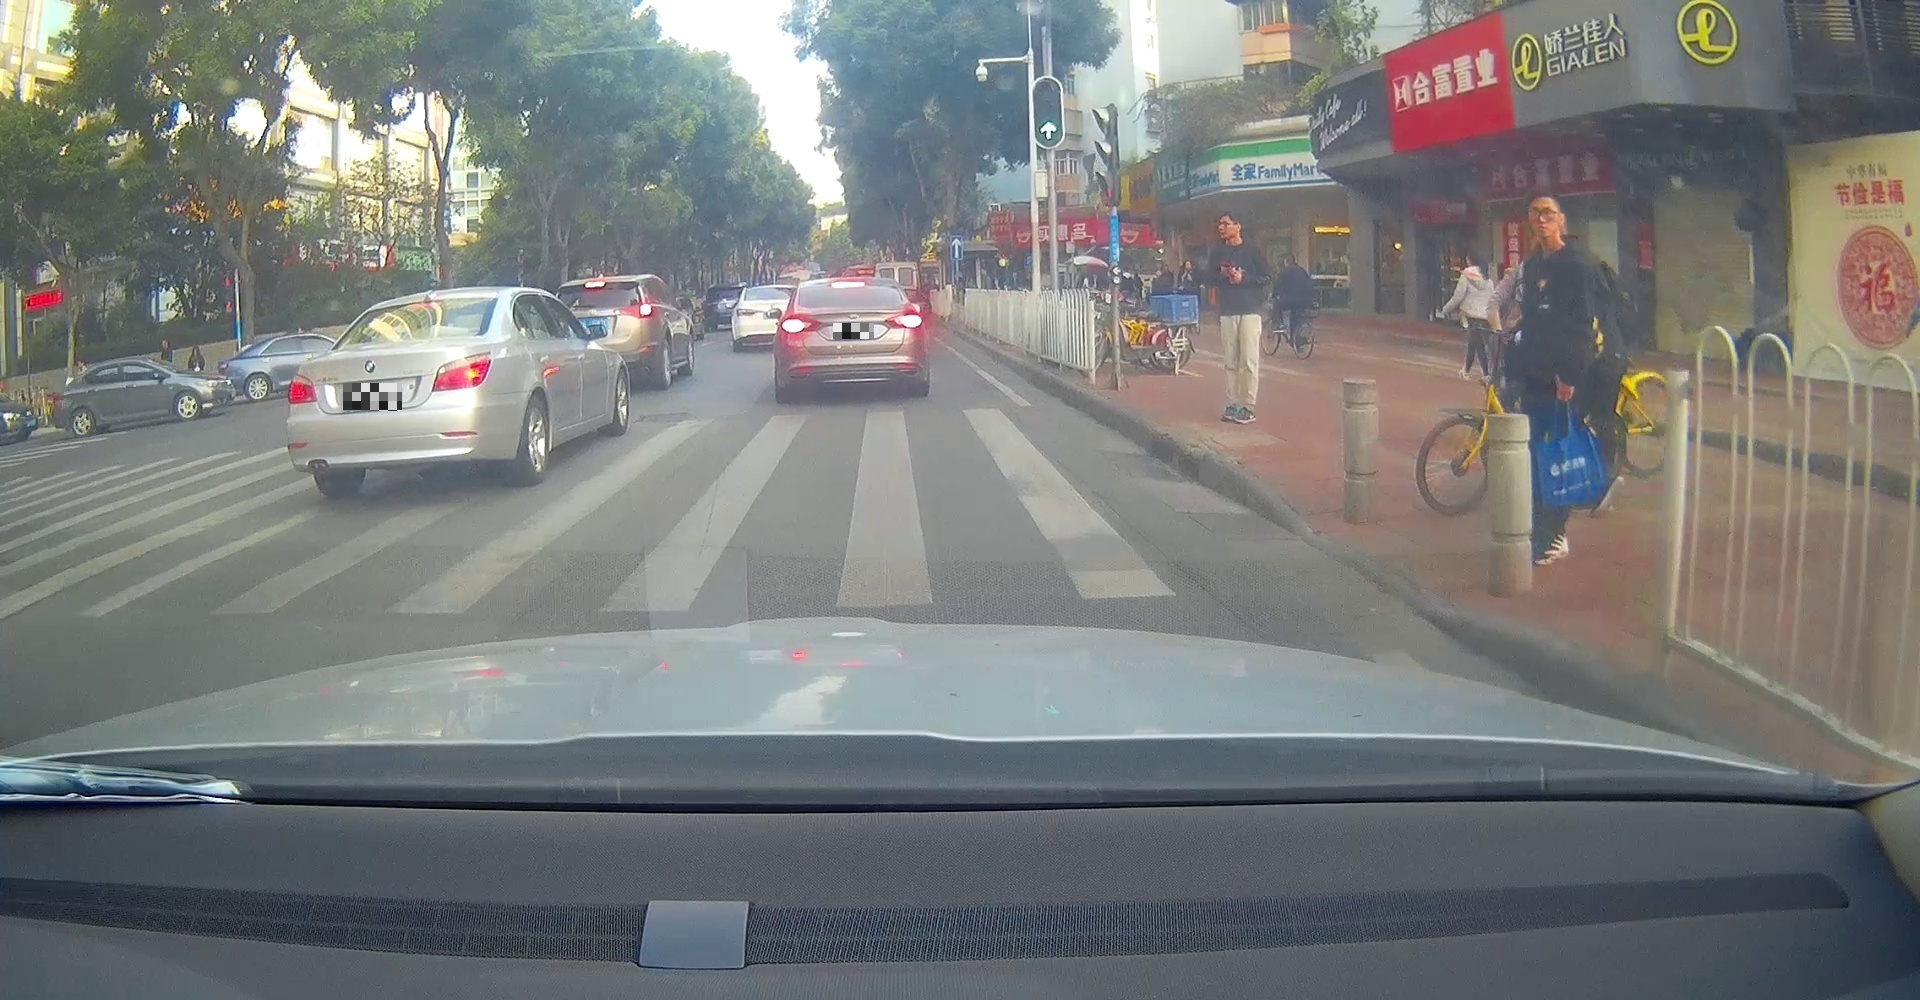L_light: (288, 373, 319, 404), (781, 316, 822, 334)
R_light: (430, 350, 491, 392), (884, 310, 922, 329)
T_light: (408, 298, 443, 310), (830, 280, 866, 289)
day-brake: (287, 288, 502, 500), (778, 275, 923, 402)
plate_1: (343, 383, 403, 411)
plate_2: (833, 324, 874, 339)
